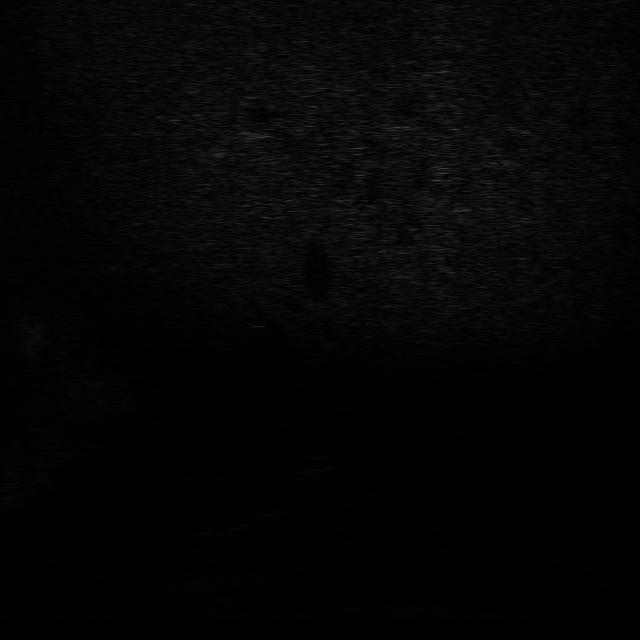ball: (288, 446, 348, 477)
square cage: (228, 484, 302, 522)
